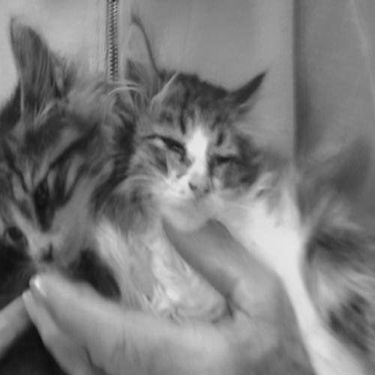cat: (123, 9, 372, 373), (4, 22, 131, 273)
